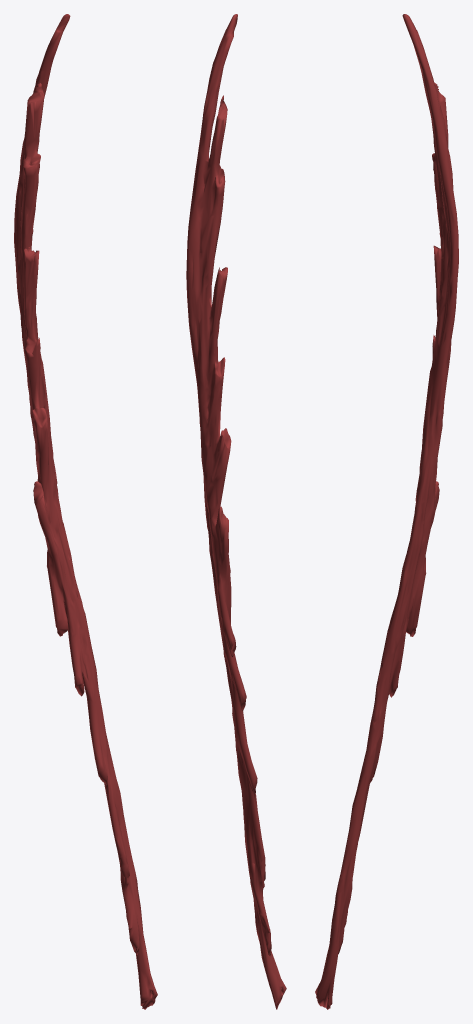
The model's file is spinalis-thoracis-muscle-l.glb.
The picture shows the model from 3 angles, left to right: view 1: azimuth 90°, elevation 25°; view 2: azimuth 150°, elevation 25°; view 3: azimuth 270°, elevation 25°; orthographic projection. The views are drawn at different scales.
Visible parts, largest first — view 1: Spinalis thoracis muscle.l; view 2: Spinalis thoracis muscle.l; view 3: Spinalis thoracis muscle.l.
Part boxes in pixels (<box>): Spinalis thoracis muscle.l: <box>14,14,157,1009</box>; Spinalis thoracis muscle.l: <box>186,14,286,1009</box>; Spinalis thoracis muscle.l: <box>315,14,458,1009</box>.
Size of the model in its own units: 0.0127 by 0.3775 by 0.0494.
